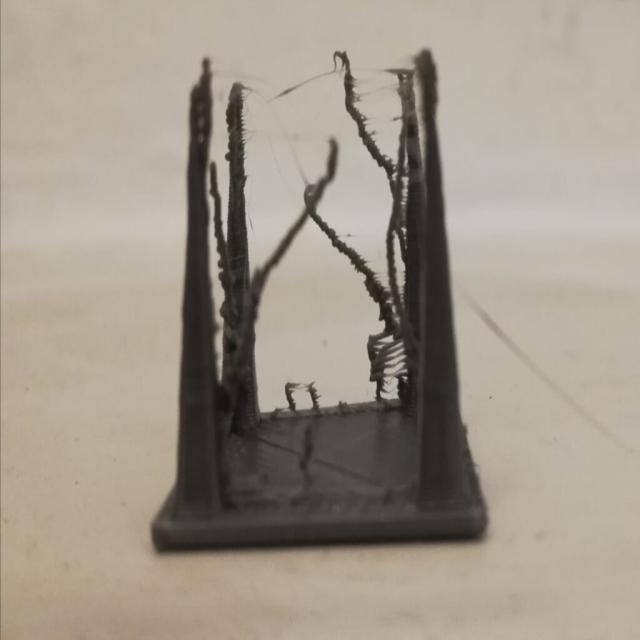Stringing: (241, 48, 409, 416)
